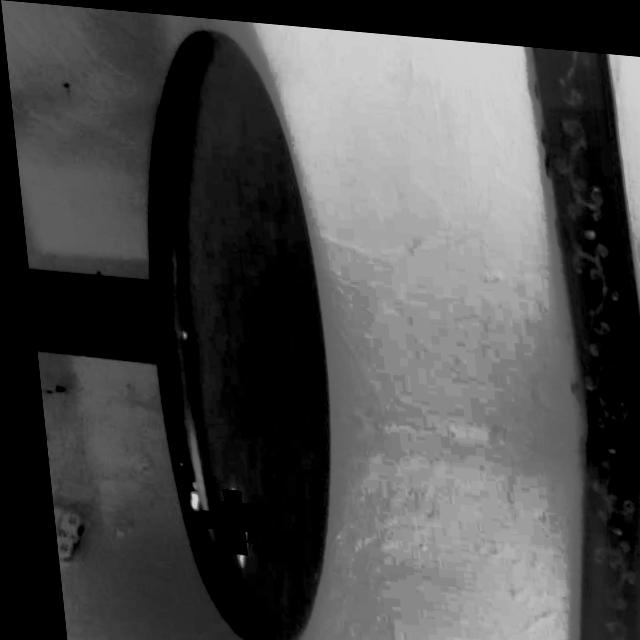qr_code: (202, 497, 245, 540)
